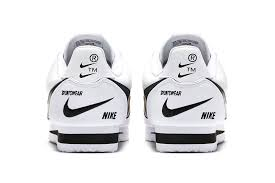nike: (154, 90, 219, 127), (55, 90, 122, 123), (172, 70, 197, 85), (176, 58, 200, 71), (77, 71, 99, 82), (76, 60, 98, 71)
